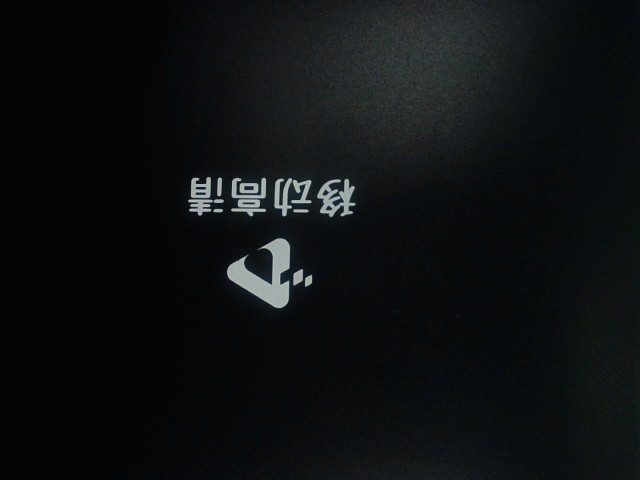AO_MobileHD: (158, 154, 383, 314)
